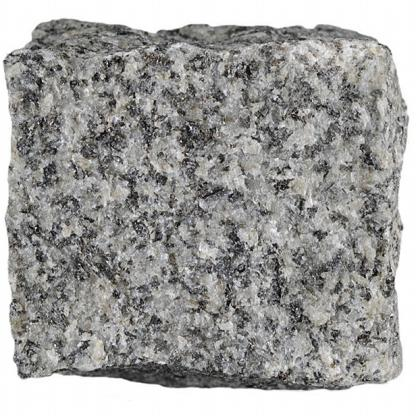Igneous_Diorite: (9, 15, 404, 384)
